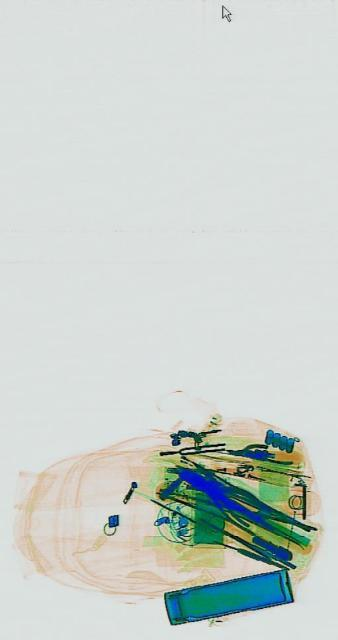Pliers: (186, 443, 257, 531), (225, 440, 266, 460)
